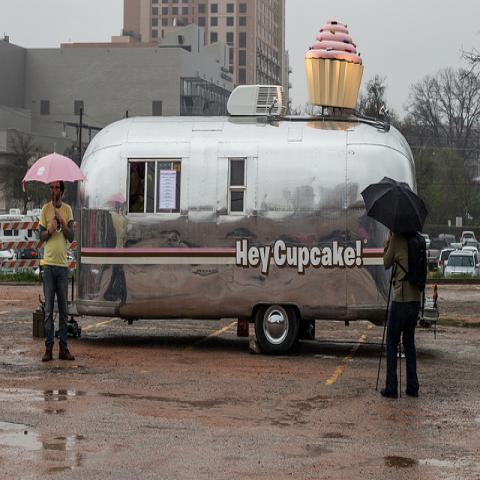car: (443, 247, 479, 279), (427, 238, 448, 270), (441, 234, 478, 249), (438, 247, 456, 274), (17, 247, 41, 260), (460, 231, 478, 243), (421, 233, 430, 248), (461, 247, 479, 254)
